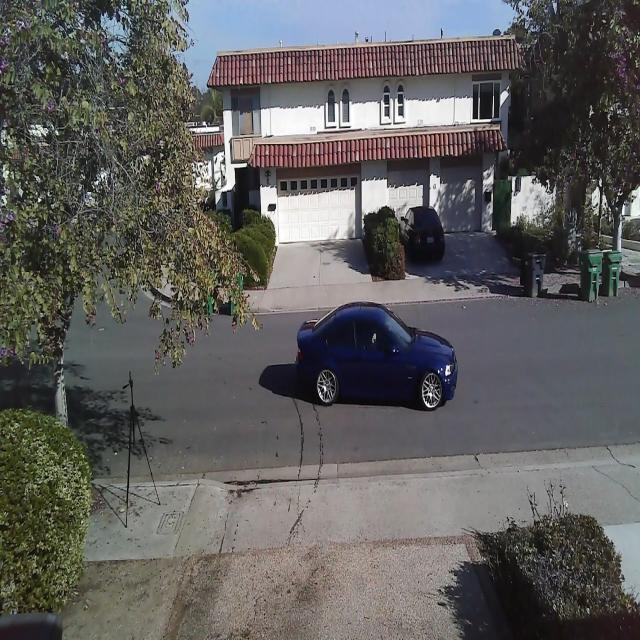Carbeetle: (289, 294, 460, 431)
Civilian: (399, 205, 446, 264)
